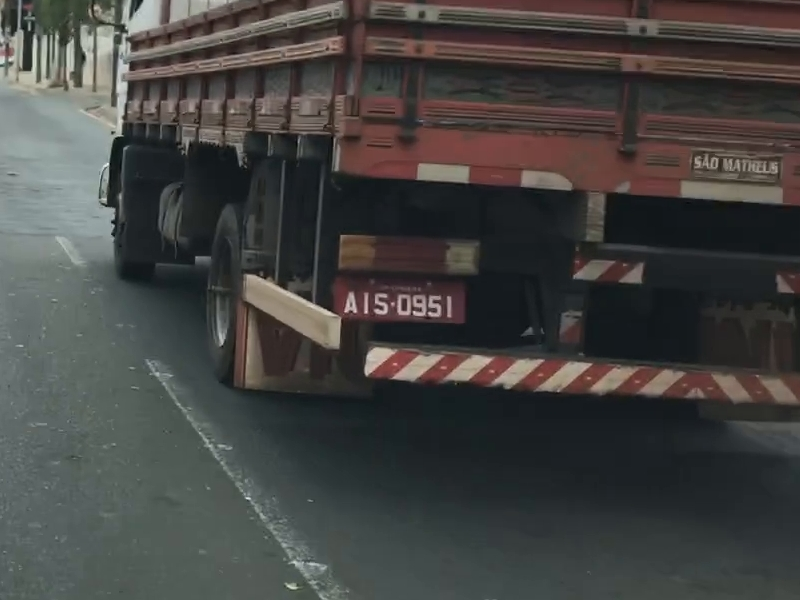placa: (334, 276, 466, 324)
